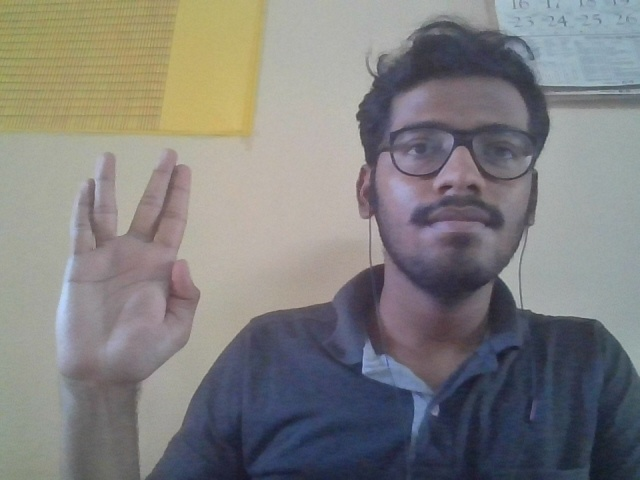LiveLong: (57, 149, 201, 382)
